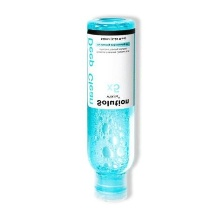cleaning_solution: (82, 14, 139, 204)
